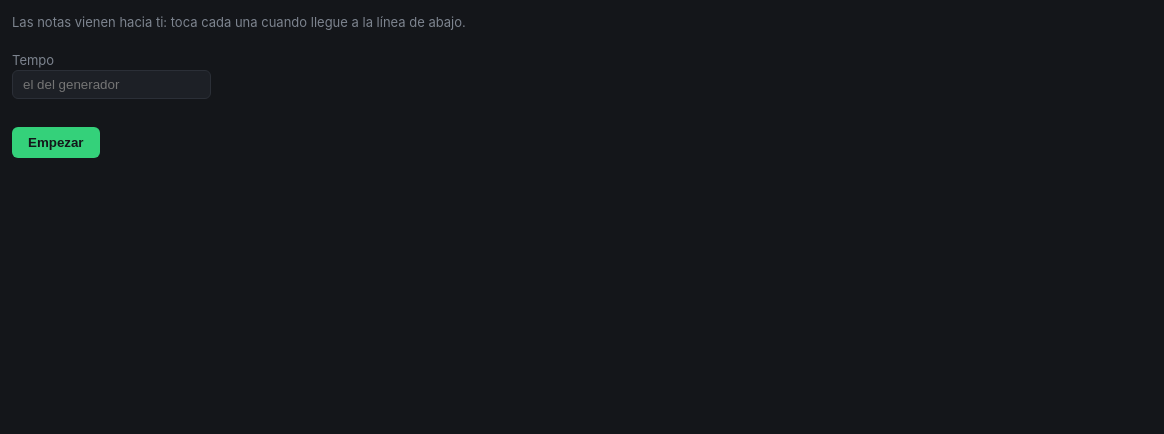
Test: Carril › una nota de acorde cobrada por presencia se dice distinta, no fallida
Click the button "Empezar": (56, 142) [12, 127, 100, 158]
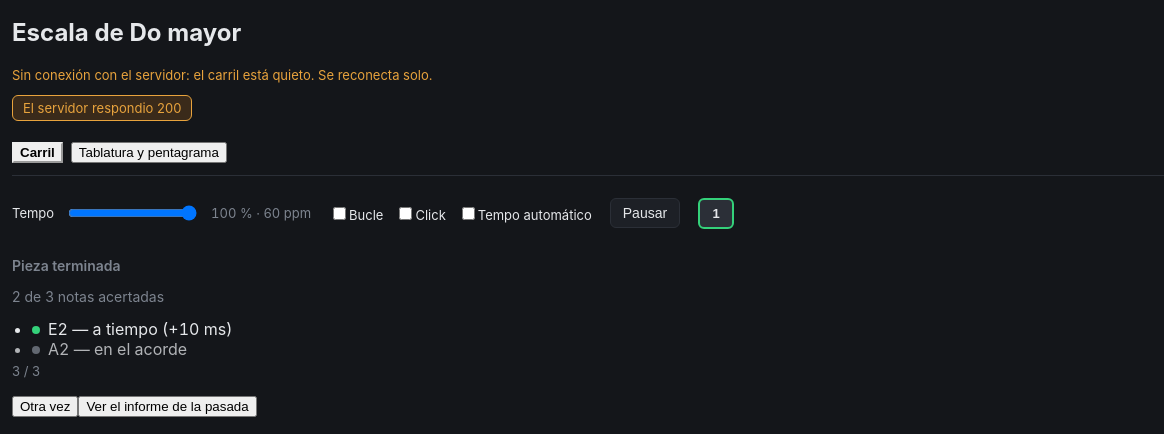
Expected: the list item "A2 — en el acorde" is shown, [32, 339, 187, 359]
Expected: the text "2 de 3 notas acertadas" is shown, [12, 288, 164, 305]
